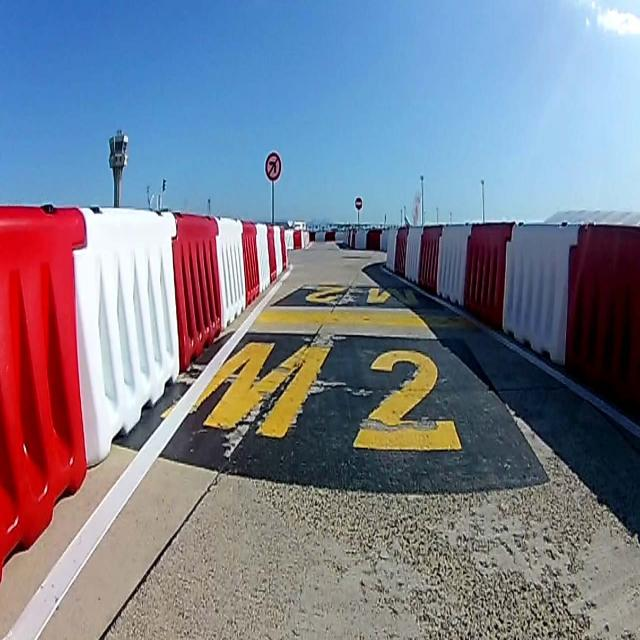girisyok: (355, 197, 363, 211)
soladonulmez: (264, 152, 282, 180)
